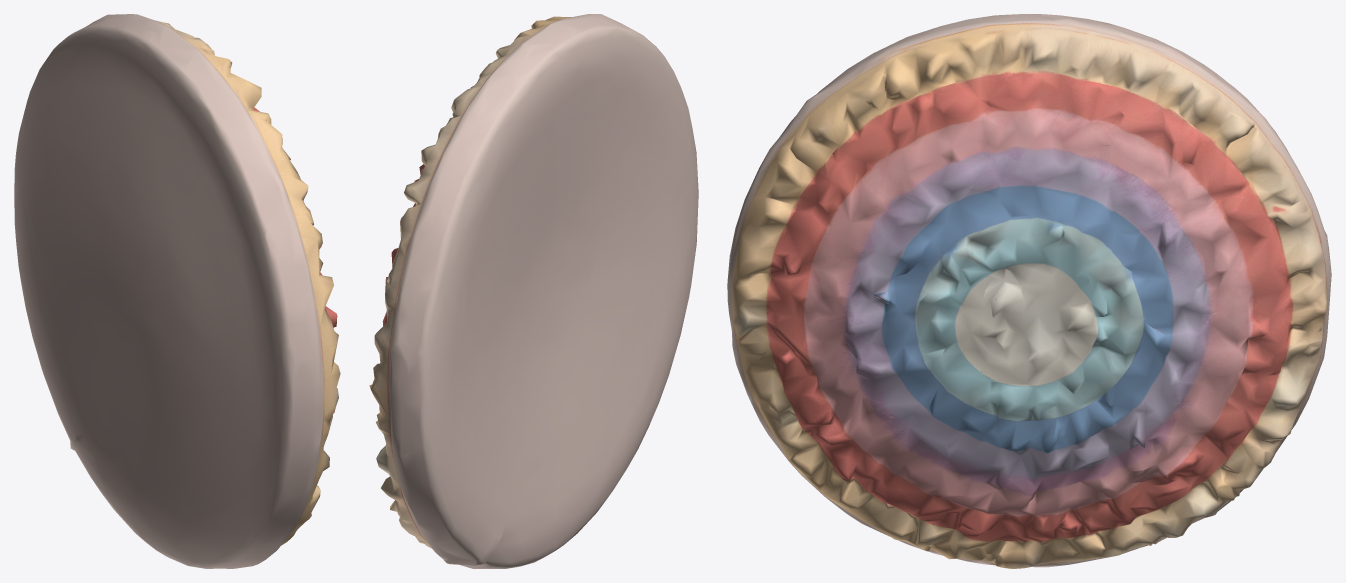
The model's file is rug_h3.glb.
The picture shows the model from 3 angles, left to right: view 1: azimuth 30°, elevation 25°; view 2: azimuth 150°, elevation 25°; view 3: azimuth 270°, elevation 25°; orthographic projection. The views are drawn at different scales.
Parts seen in each view (by area): view 1: tripo_node_0267432a-b7f5-448b-b19c-d227e5bf3e55; view 2: tripo_node_0267432a-b7f5-448b-b19c-d227e5bf3e55; view 3: tripo_node_0267432a-b7f5-448b-b19c-d227e5bf3e55.
Part boxes in pixels (x1,y1,x2,y2): tripo_node_0267432a-b7f5-448b-b19c-d227e5bf3e55: (14, 14, 340, 568); tripo_node_0267432a-b7f5-448b-b19c-d227e5bf3e55: (369, 14, 698, 568); tripo_node_0267432a-b7f5-448b-b19c-d227e5bf3e55: (727, 14, 1331, 568).
Bounding box in the file's own units: 0.2328 × 0.9967 × 1.
1 material, 1 textured.
